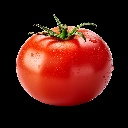tomato: (16, 26, 117, 105)
